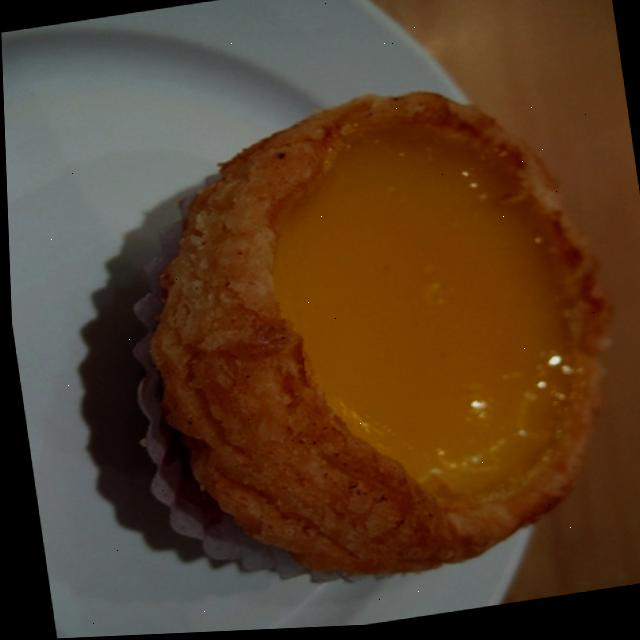炸货点心: (63, 63, 640, 609)
蛋糕甜品: (63, 63, 640, 609)
